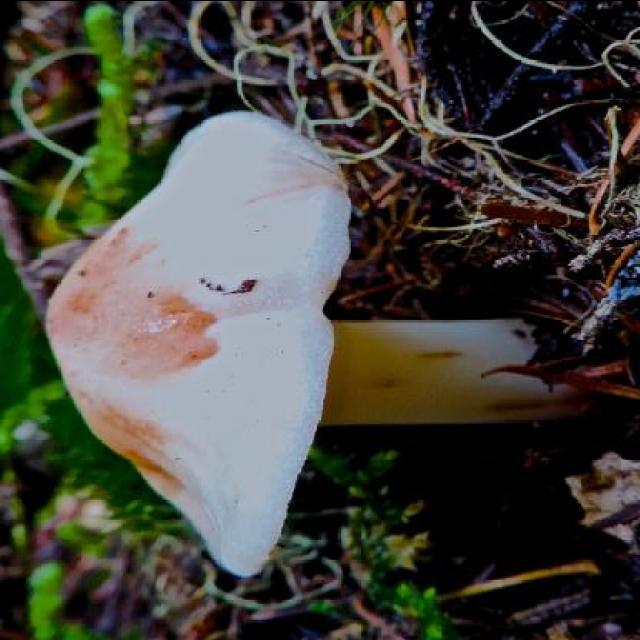Mushroom: (44, 109, 602, 576)
